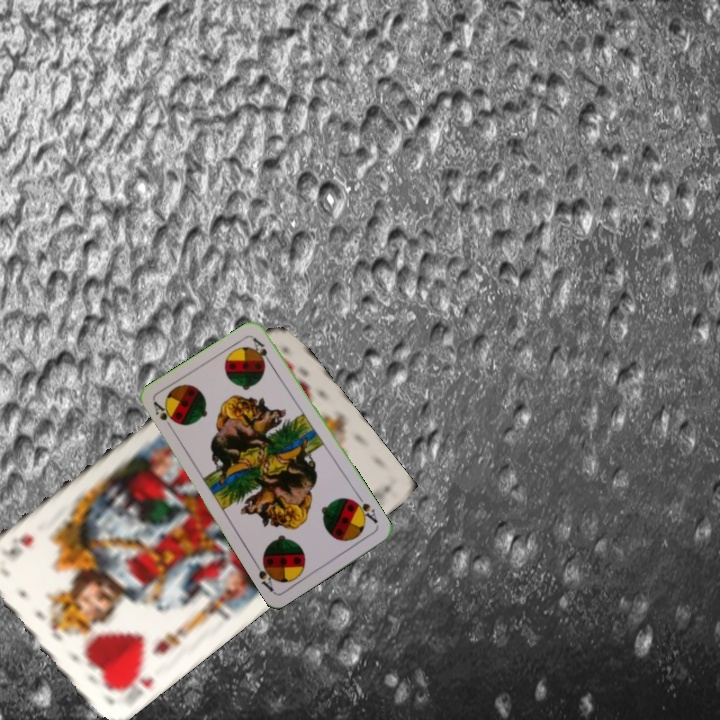HK: (111, 662, 156, 697)
SA: (149, 397, 180, 434), (349, 492, 380, 526)
